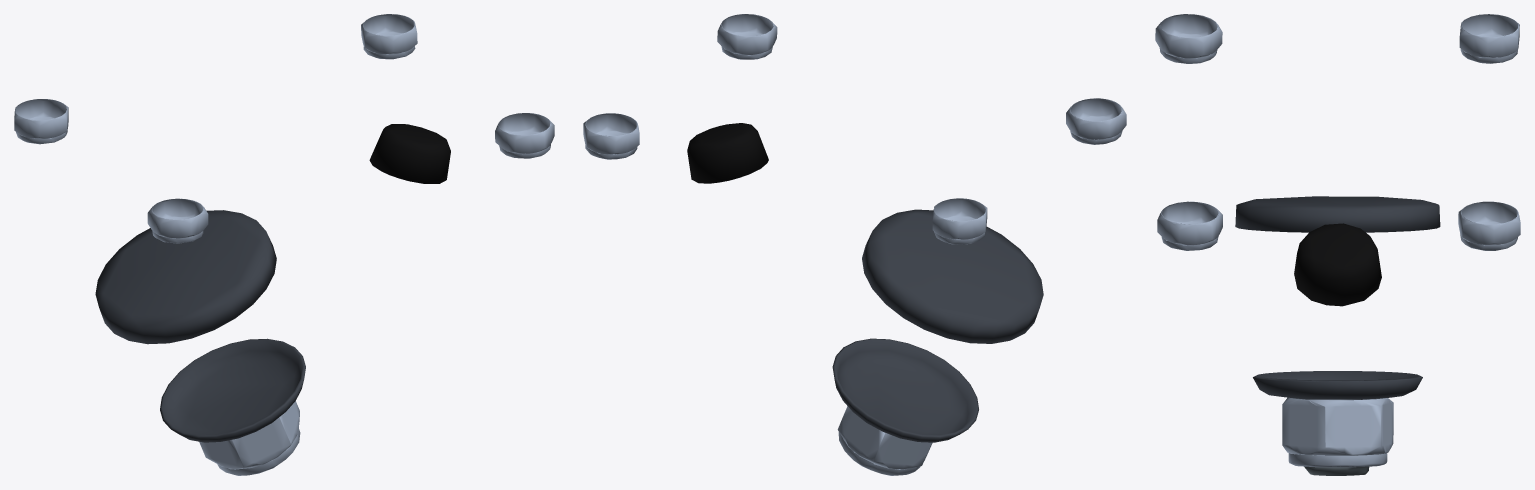
The model's file is truck-other.obj.
3 views of the same model, side by side, from view 1: azimuth 30°, elevation 25°; view 2: azimuth 150°, elevation 25°; view 3: azimuth 270°, elevation 25° (orthographic). The views are drawn at different scales.
Visible parts, largest first — view 1: front-other_Circle.042; view 2: front-other_Circle.042; view 3: front-other_Circle.042.
Boxes of the visible parts, left/top/right/bottom form: front-other_Circle.042: left=14, top=14, right=554, bottom=475; front-other_Circle.042: left=583, top=14, right=1126, bottom=475; front-other_Circle.042: left=1155, top=14, right=1520, bottom=475.
Size of the model in its own units: 1.1 by 0.8943 by 0.7856.
